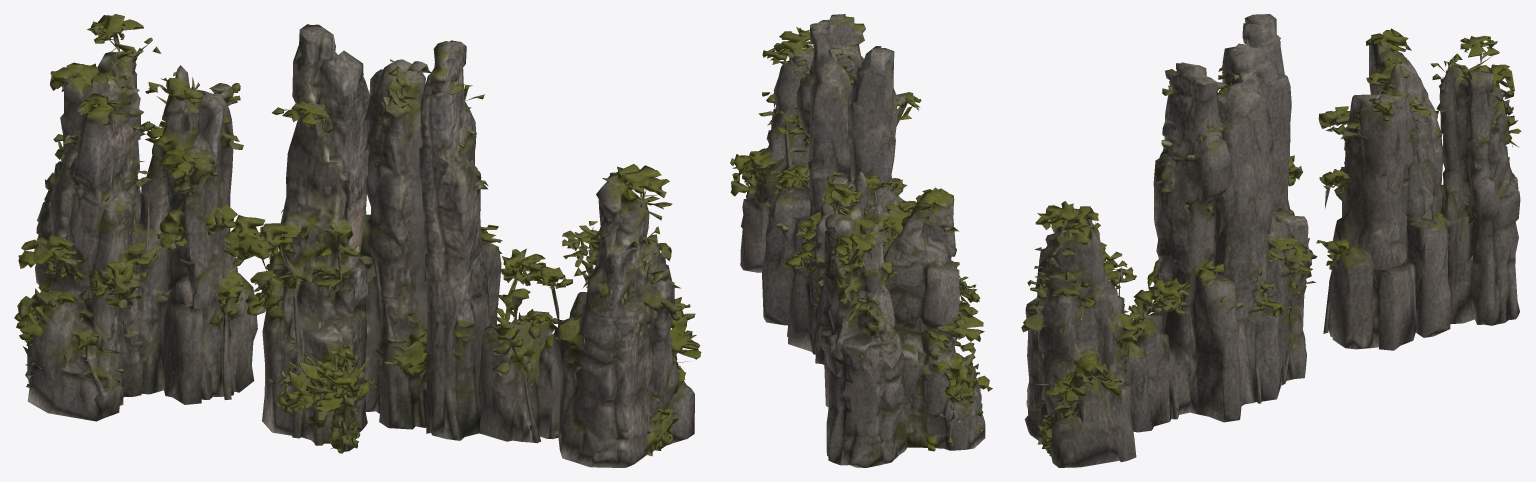
File: pillars_b_far.glb
The picture shows the model from 3 angles, left to right: view 1: azimuth 30°, elevation 25°; view 2: azimuth 150°, elevation 25°; view 3: azimuth 270°, elevation 25°; orthographic projection. The views are drawn at different scales.
Visible parts, largest first — view 1: pillars_b; view 2: pillars_b; view 3: pillars_b.
Part boxes in pixels (left/top/right/bottom): pillars_b: left=14, top=14, right=701, bottom=467; pillars_b: left=730, top=14, right=992, bottom=467; pillars_b: left=1021, top=14, right=1521, bottom=467.
Size of the model in its own units: 1.88 by 1.39 by 1.87.
Materials: 1 (1 with a texture image).
